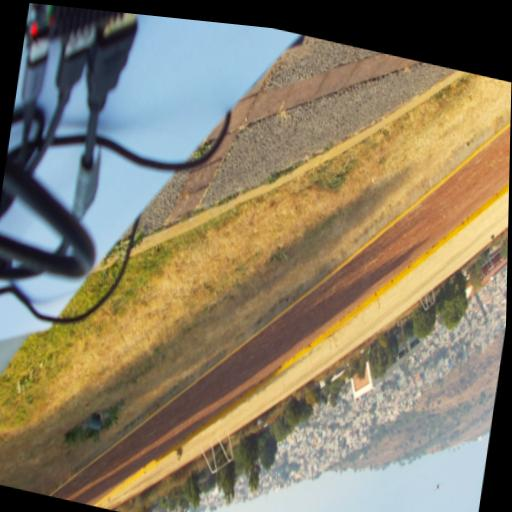drones: (432, 480, 443, 495)
